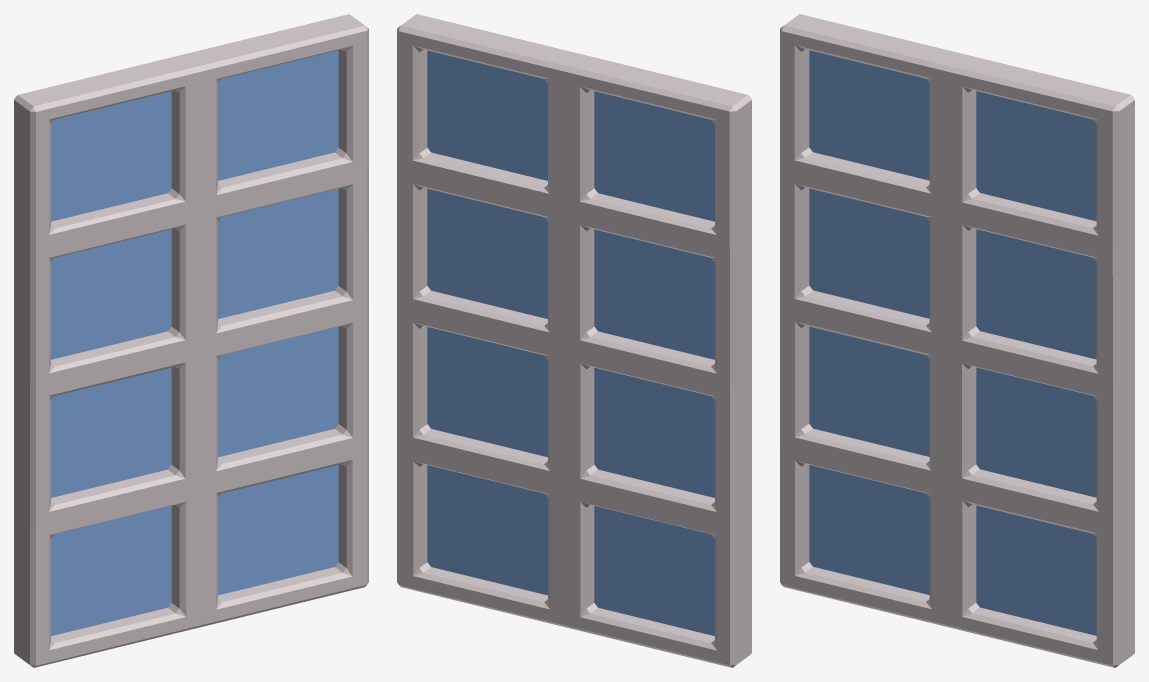
The model's file is RainingWindow2.fbx.
3 views of the same model, side by side, from view 1: azimuth 30°, elevation 25°; view 2: azimuth 150°, elevation 25°; view 3: azimuth 330°, elevation 25° (orthographic).
Visible parts, largest first — view 1: window_wood.L, 平面; view 2: window_wood.L, 平面; view 3: window_wood.L, 平面.
Part boxes in pixels (<box>): window_wood.L: <box>14,14,368,667</box>; 平面: <box>51,50,338,635</box>; window_wood.L: <box>397,14,751,667</box>; 平面: <box>427,50,714,635</box>; window_wood.L: <box>780,14,1134,667</box>; 平面: <box>809,50,1096,635</box>.
Size of the model in its own units: 0.7757 by 1.23 by 0.0801.
